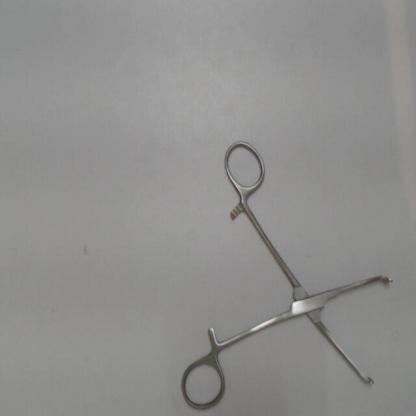Allis Tissue Forceps: (178, 135, 397, 413)
